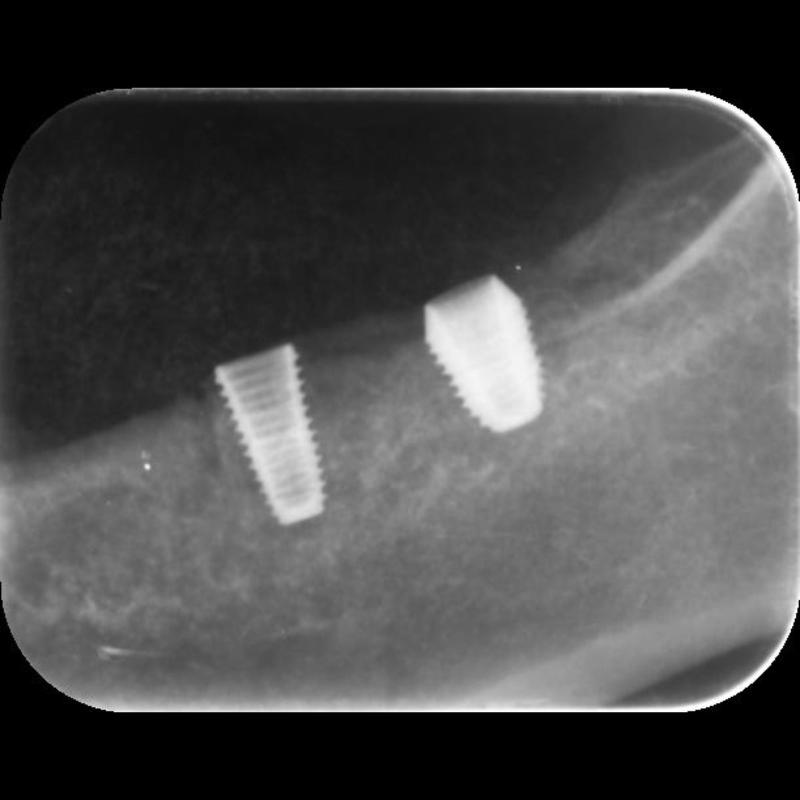Dentium: (210, 338, 330, 530), (417, 270, 551, 436)
